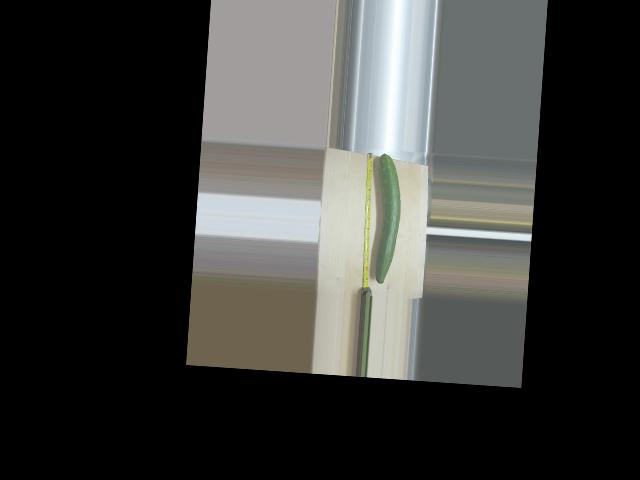cucumber: (370, 153, 404, 284)
